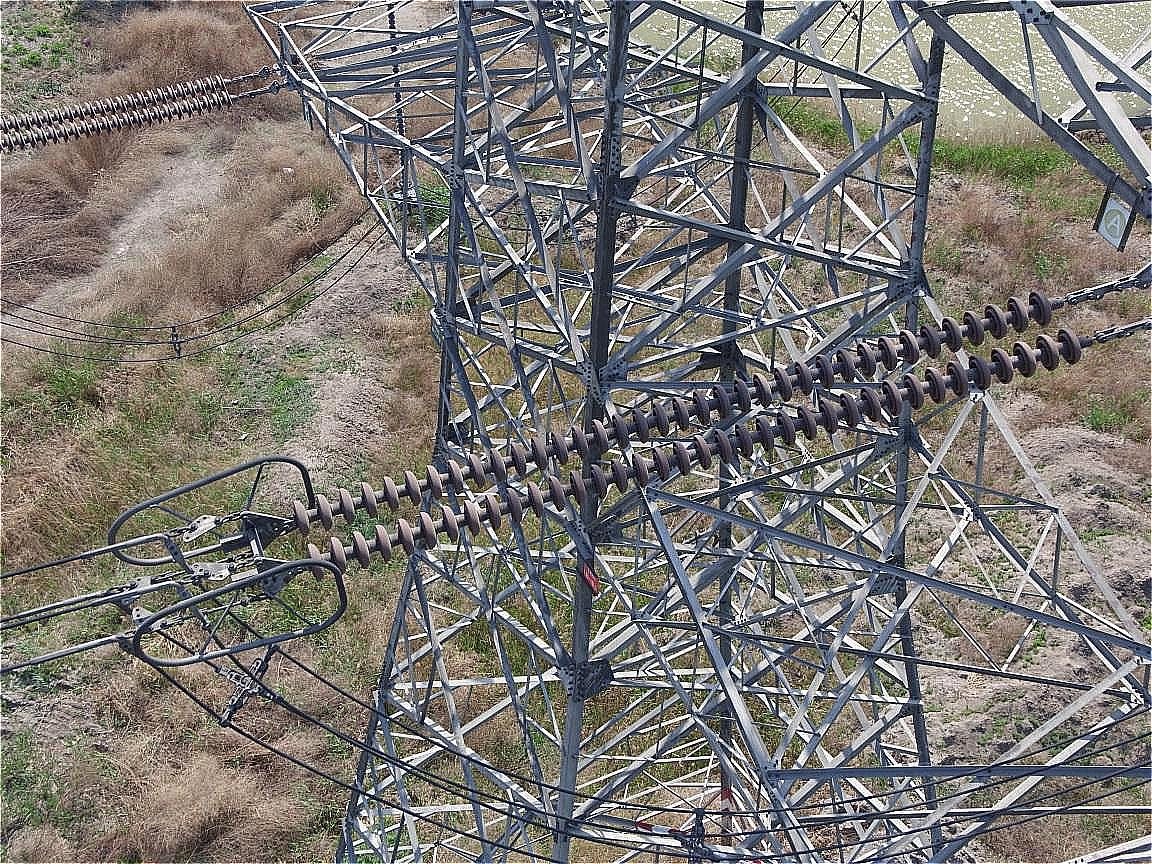insultor1: (263, 281, 1097, 584)
insultor2: (1, 67, 243, 160)
